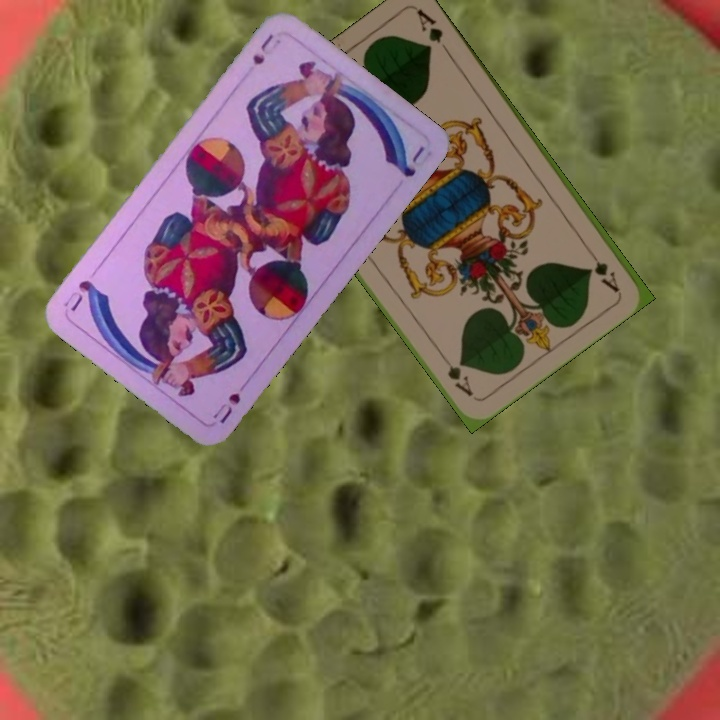GA: (581, 242, 622, 295)
SU: (208, 388, 243, 426), (248, 30, 277, 68)
